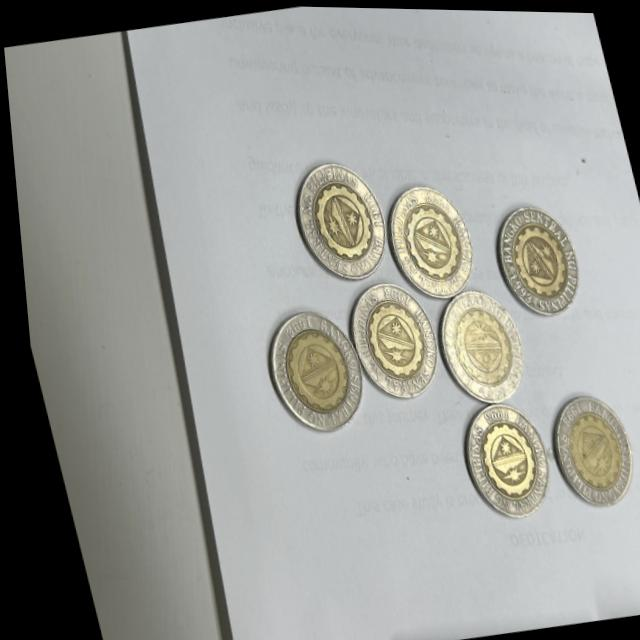10_Old_Back: (251, 300, 360, 431), (285, 158, 387, 283), (338, 279, 433, 402), (376, 174, 471, 295), (453, 400, 548, 520), (540, 392, 634, 508), (431, 291, 526, 404), (485, 200, 579, 314)
